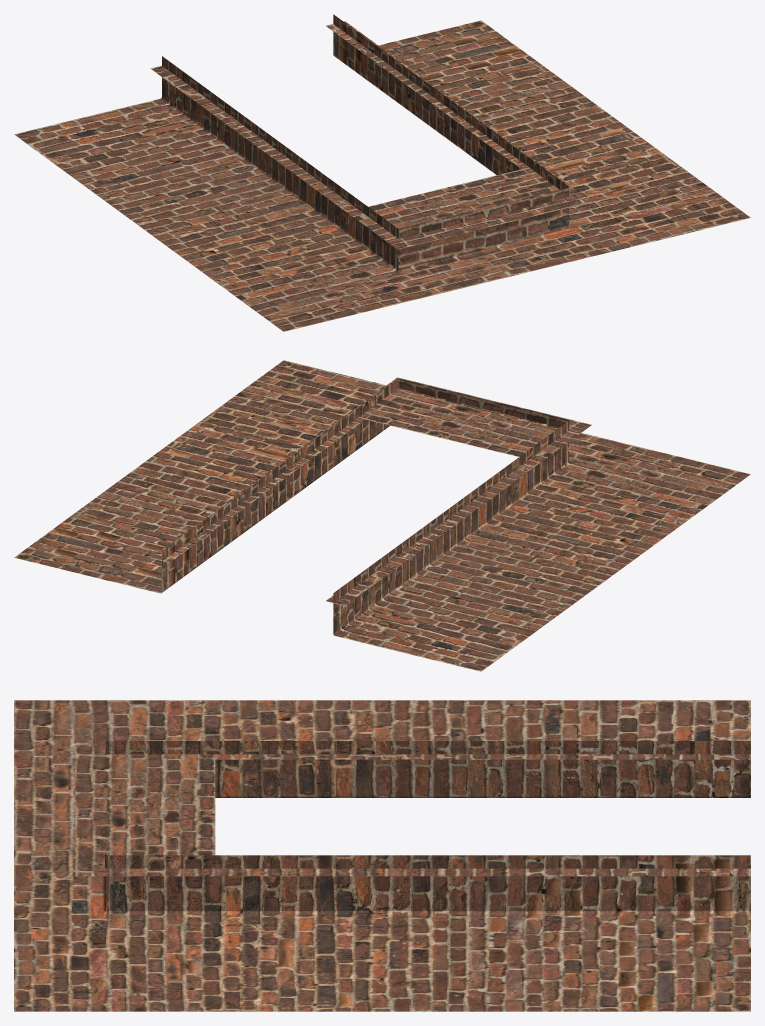
Rendered from wall_door_recessed_small_01.gltf.
3 views of the same model, one above another, from view 1: azimuth 30°, elevation 25°; view 2: azimuth 150°, elevation 25°; view 3: azimuth 270°, elevation 25° (orthographic). The views are drawn at different scales.
Visible parts, largest first — view 1: wall_door_recessed_small_01; view 2: wall_door_recessed_small_01; view 3: wall_door_recessed_small_01.
Boxes of the visible parts, box(x1,y1,x2,y2) form: wall_door_recessed_small_01: box(14, 14, 750, 331); wall_door_recessed_small_01: box(14, 360, 750, 671); wall_door_recessed_small_01: box(14, 700, 750, 1011).
Bounding box in the file's own units: 3 × 0.26 × 3.
Materials: 1 (1 with a texture image).
